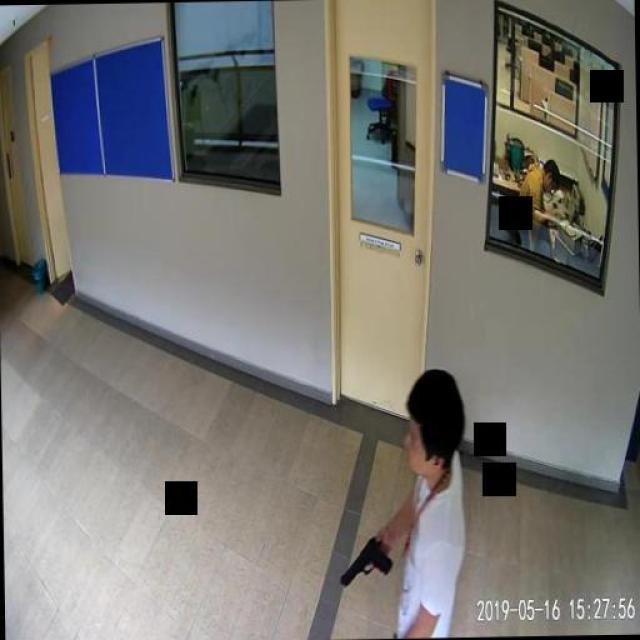gun: (339, 535, 391, 586)
